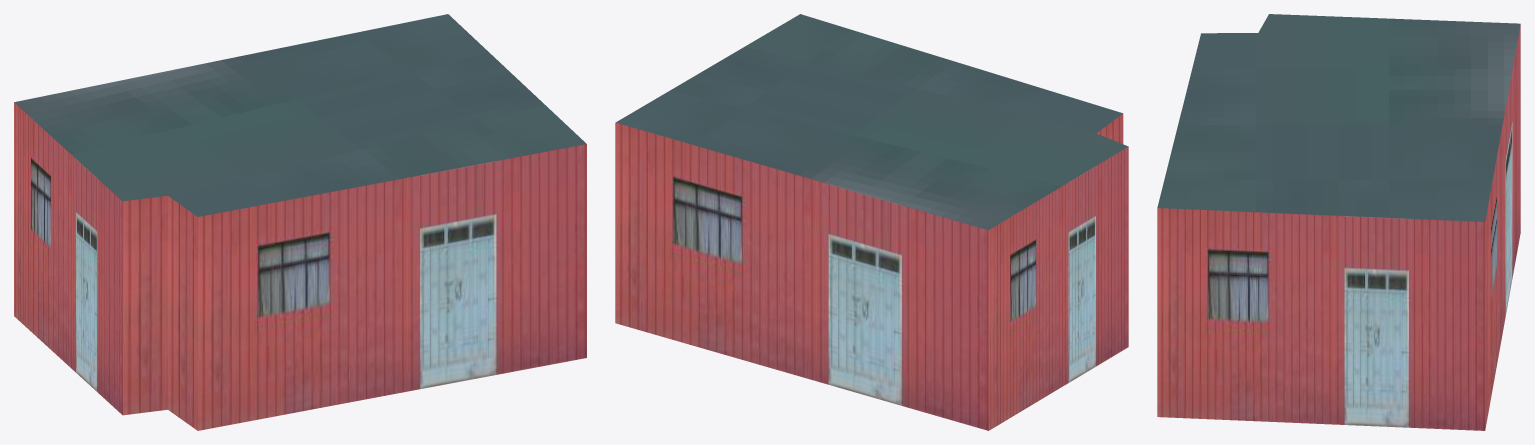
The model's file is E_1SHXU4PBT5.dae.
3 views of the same model, side by side, from view 1: azimuth 30°, elevation 25°; view 2: azimuth 150°, elevation 25°; view 3: azimuth 270°, elevation 25° (orthographic). The views are drawn at different scales.
Parts seen in each view (by area): view 1: SketchUp (×2); view 2: SketchUp (×2); view 3: SketchUp (×2).
Part boxes in pixels (x1=…): SketchUp (×2): x1=14, y1=14, x2=586, y2=430; SketchUp (×2): x1=615, y1=14, x2=1128, y2=430; SketchUp (×2): x1=1157, y1=14, x2=1520, y2=430.
Size of what is drawn, in the model's own units: 277 by 205 by 130.
2 materials, 2 textured.
